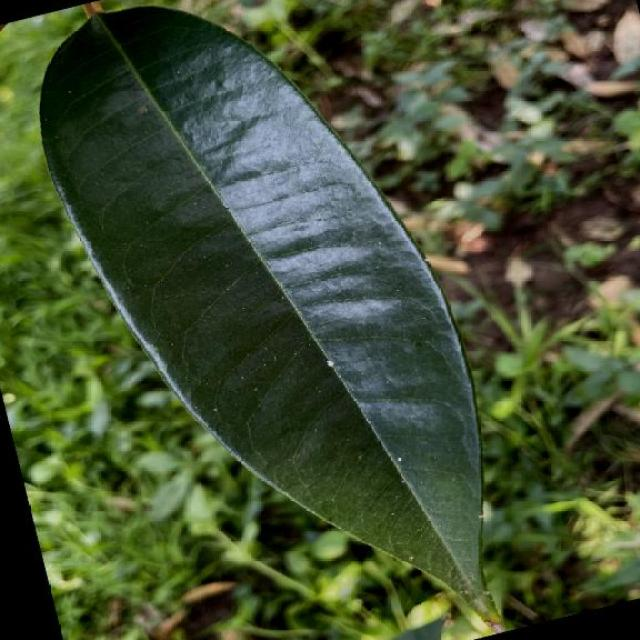No Disease: (2, 0, 538, 640)
